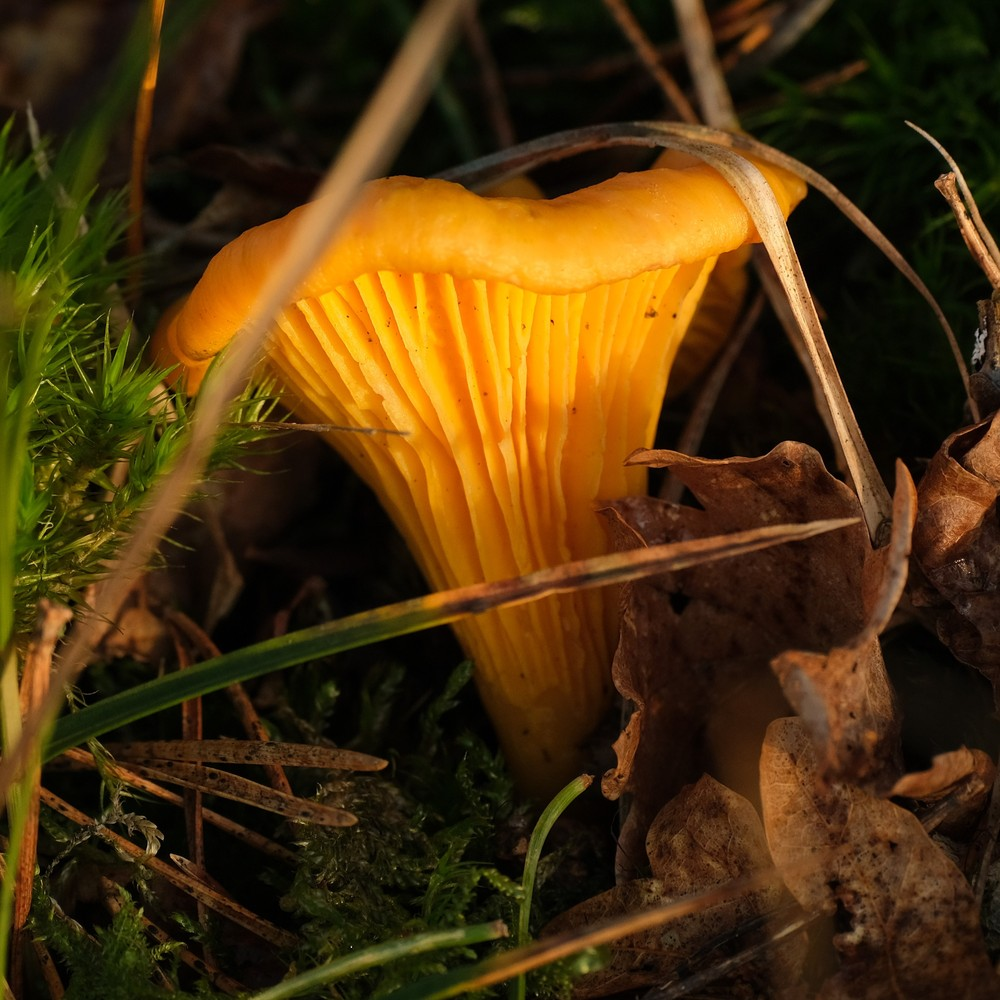cap: (297, 161, 758, 296), (161, 202, 320, 391)
stem: (493, 675, 609, 797)
underside: (268, 265, 707, 587)
